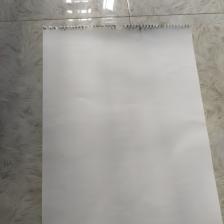Paper: (38, 20, 212, 218)
